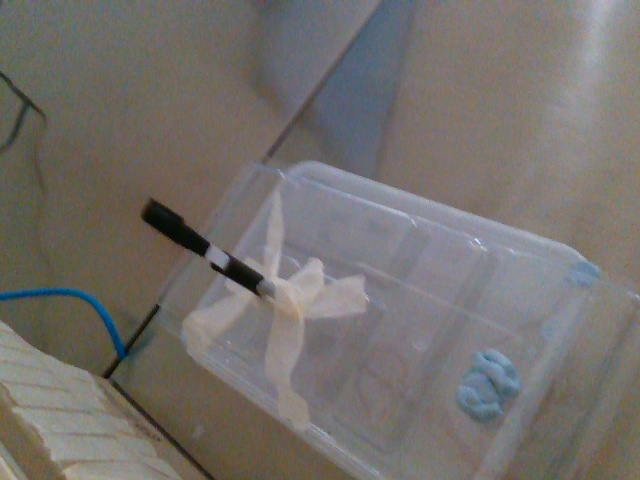test_strip: (138, 195, 228, 270)
